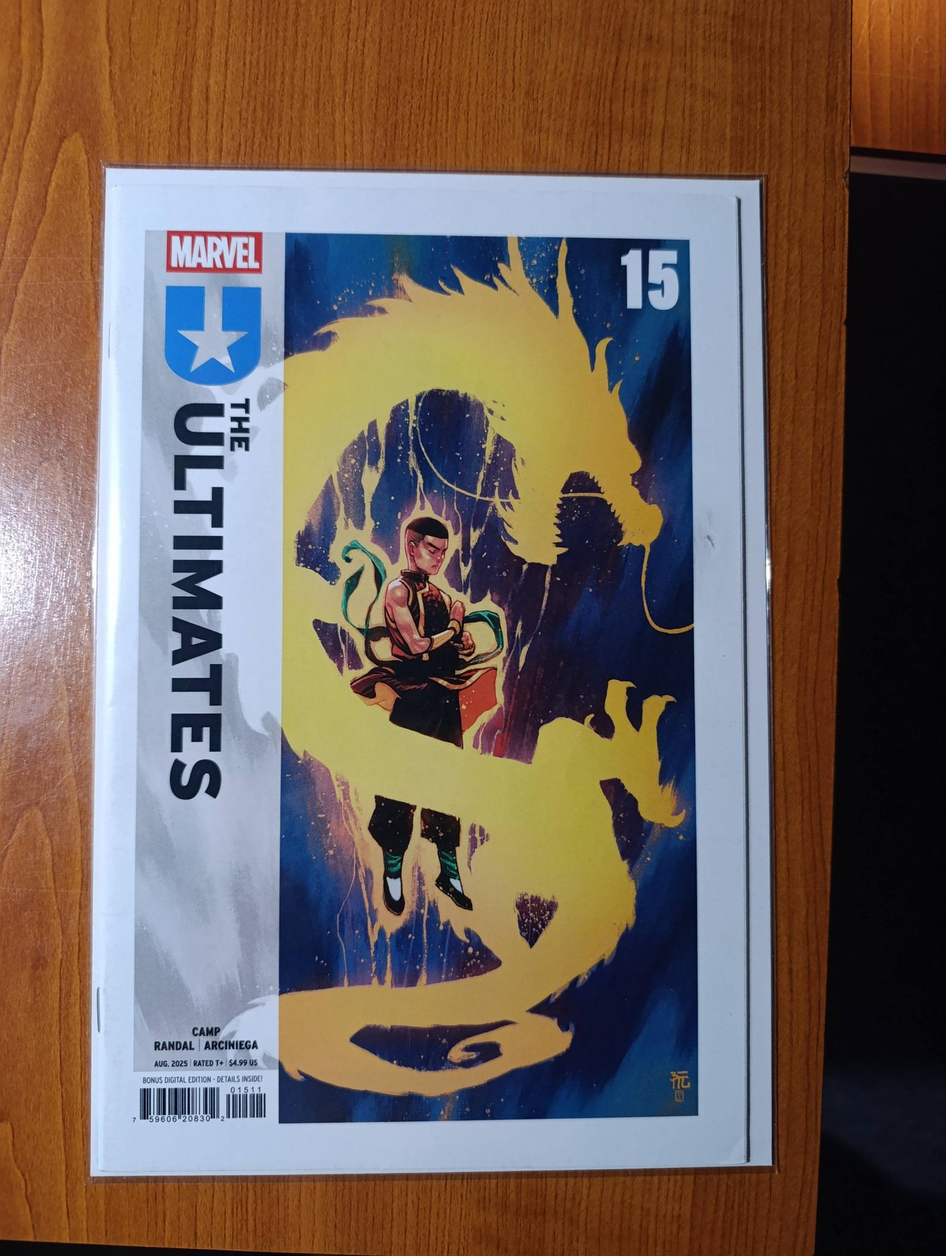comic: (93, 170, 772, 1175)
